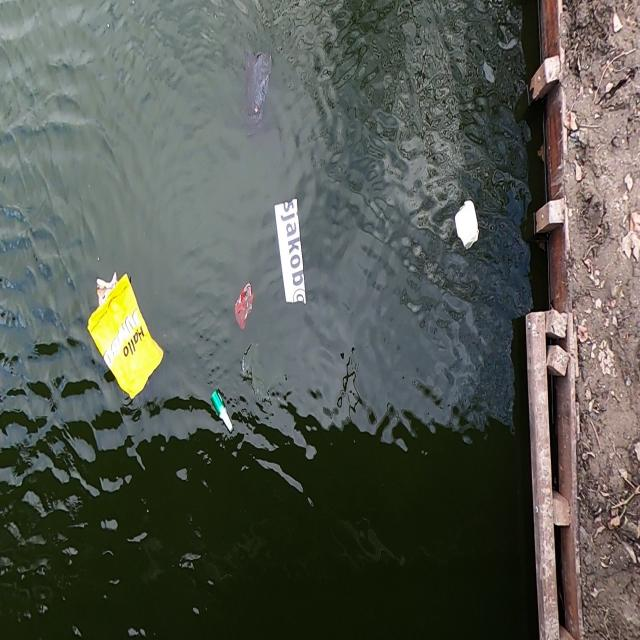Autre plastique: (449, 196, 484, 256)
Sac plastique: (83, 269, 166, 402), (238, 340, 294, 405), (239, 43, 275, 134), (232, 279, 258, 332)
